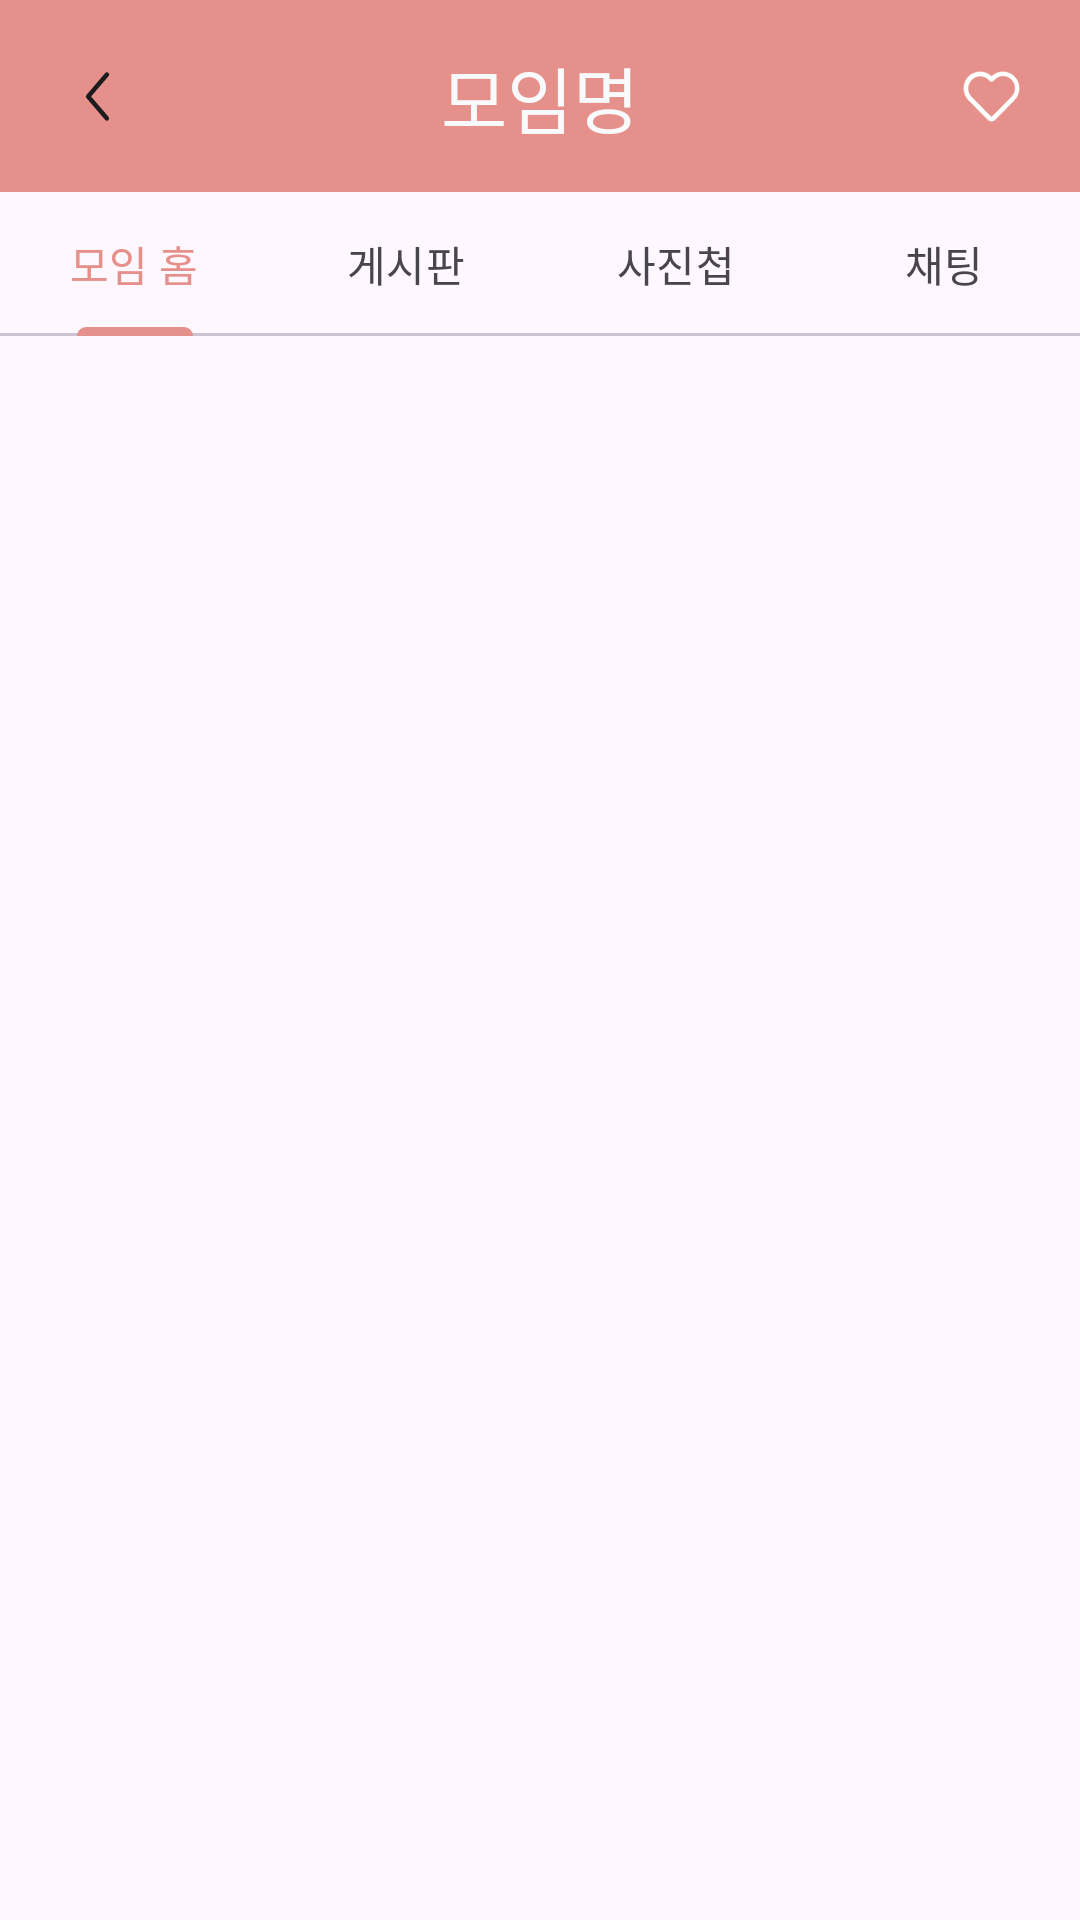

Named icons in this screenshot (1080px×1920px) and their bounding boxes, (x1, y1, x2, y2):
back: (85, 72, 110, 121)
like: (963, 71, 1020, 122)
